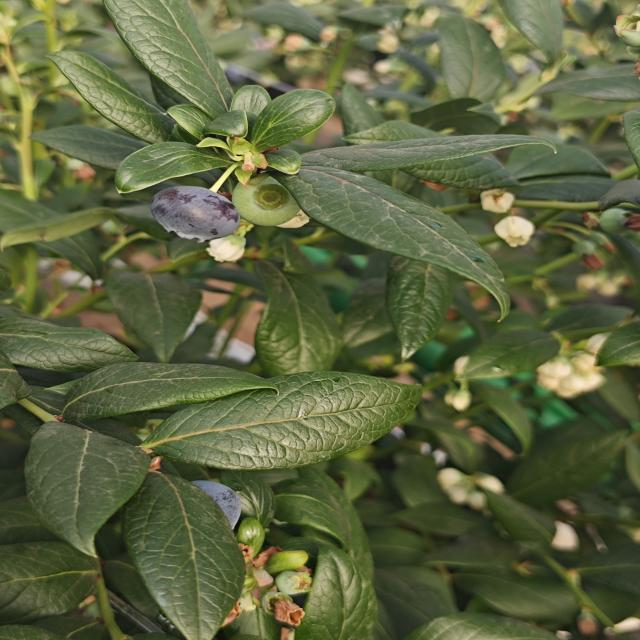ripe: (150, 182, 257, 258), (167, 466, 249, 537)
